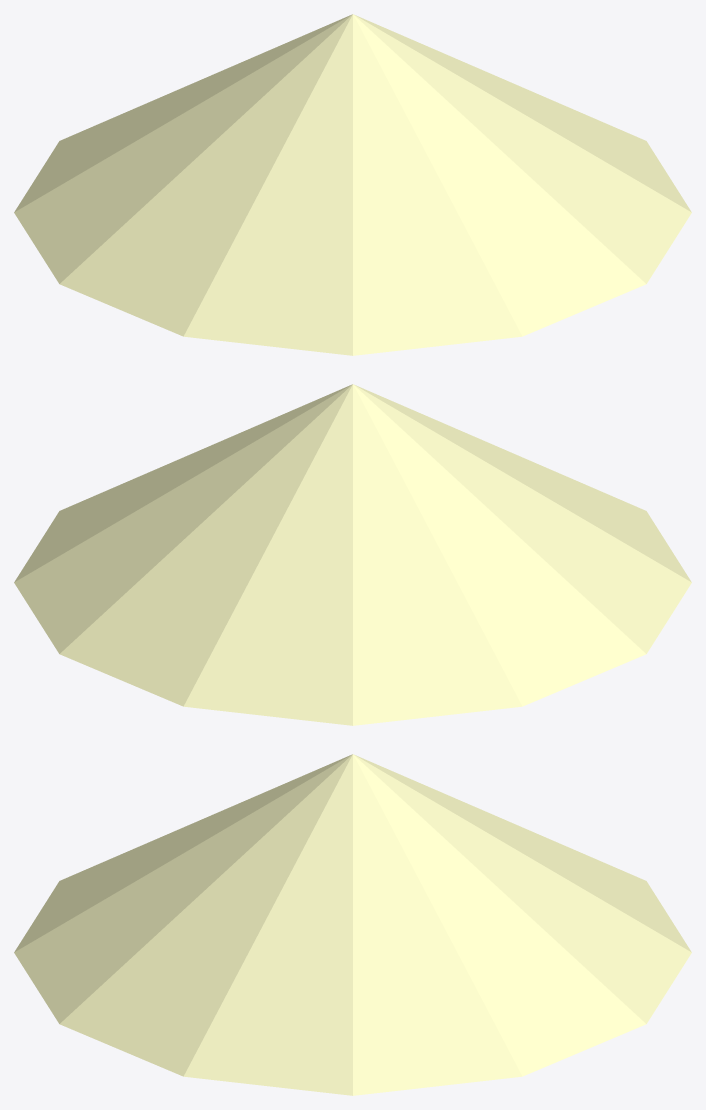
File: Asian_Prop_Straw_Hat_01.FBX
3 renders of one model, top to bottom at view 1: azimuth 30°, elevation 25°; view 2: azimuth 150°, elevation 25°; view 3: azimuth 270°, elevation 25°, orthographic.
Parts seen in each view (by area): view 1: Asian_Prop_Straw_Hat_01; view 2: Asian_Prop_Straw_Hat_01; view 3: Asian_Prop_Straw_Hat_01.
Boxes of the visible parts, box(x1,y1,x2,y2) form: Asian_Prop_Straw_Hat_01: box(14, 14, 691, 355); Asian_Prop_Straw_Hat_01: box(14, 384, 691, 725); Asian_Prop_Straw_Hat_01: box(14, 754, 691, 1095).
Size of the model in its own units: 1380 by 446 by 1380.
